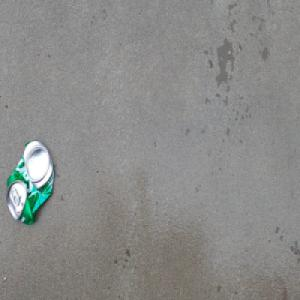SodaCan: (5, 137, 56, 227)
